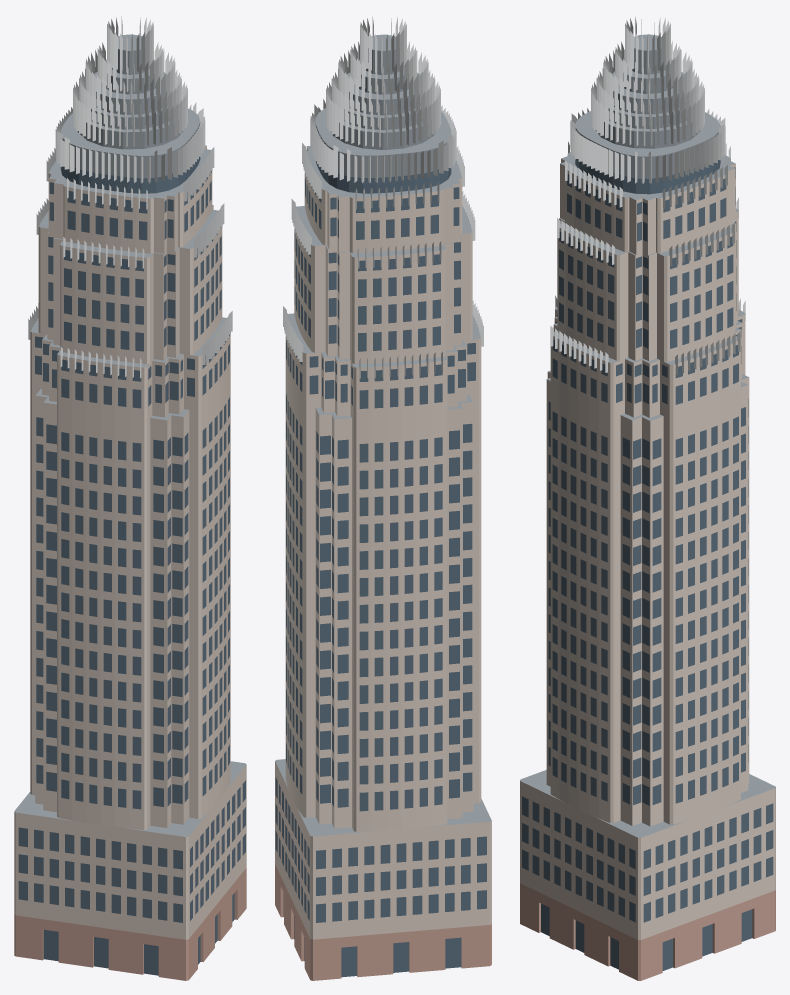
File: detail.glb
3 views of the same model, side by side, from view 1: azimuth 30°, elevation 25°; view 2: azimuth 150°, elevation 25°; view 3: azimuth 270°, elevation 25° (orthographic).
Visible parts, largest first — view 1: bank-of-america-corporate-center; view 2: bank-of-america-corporate-center; view 3: bank-of-america-corporate-center.
Boxes of the visible parts, x1,y1,x2,y2 form: bank-of-america-corporate-center: [14, 16, 246, 980]; bank-of-america-corporate-center: [275, 17, 491, 980]; bank-of-america-corporate-center: [520, 17, 775, 980].
Bounding box in the file's own units: 68.07 × 265 × 68.07.
